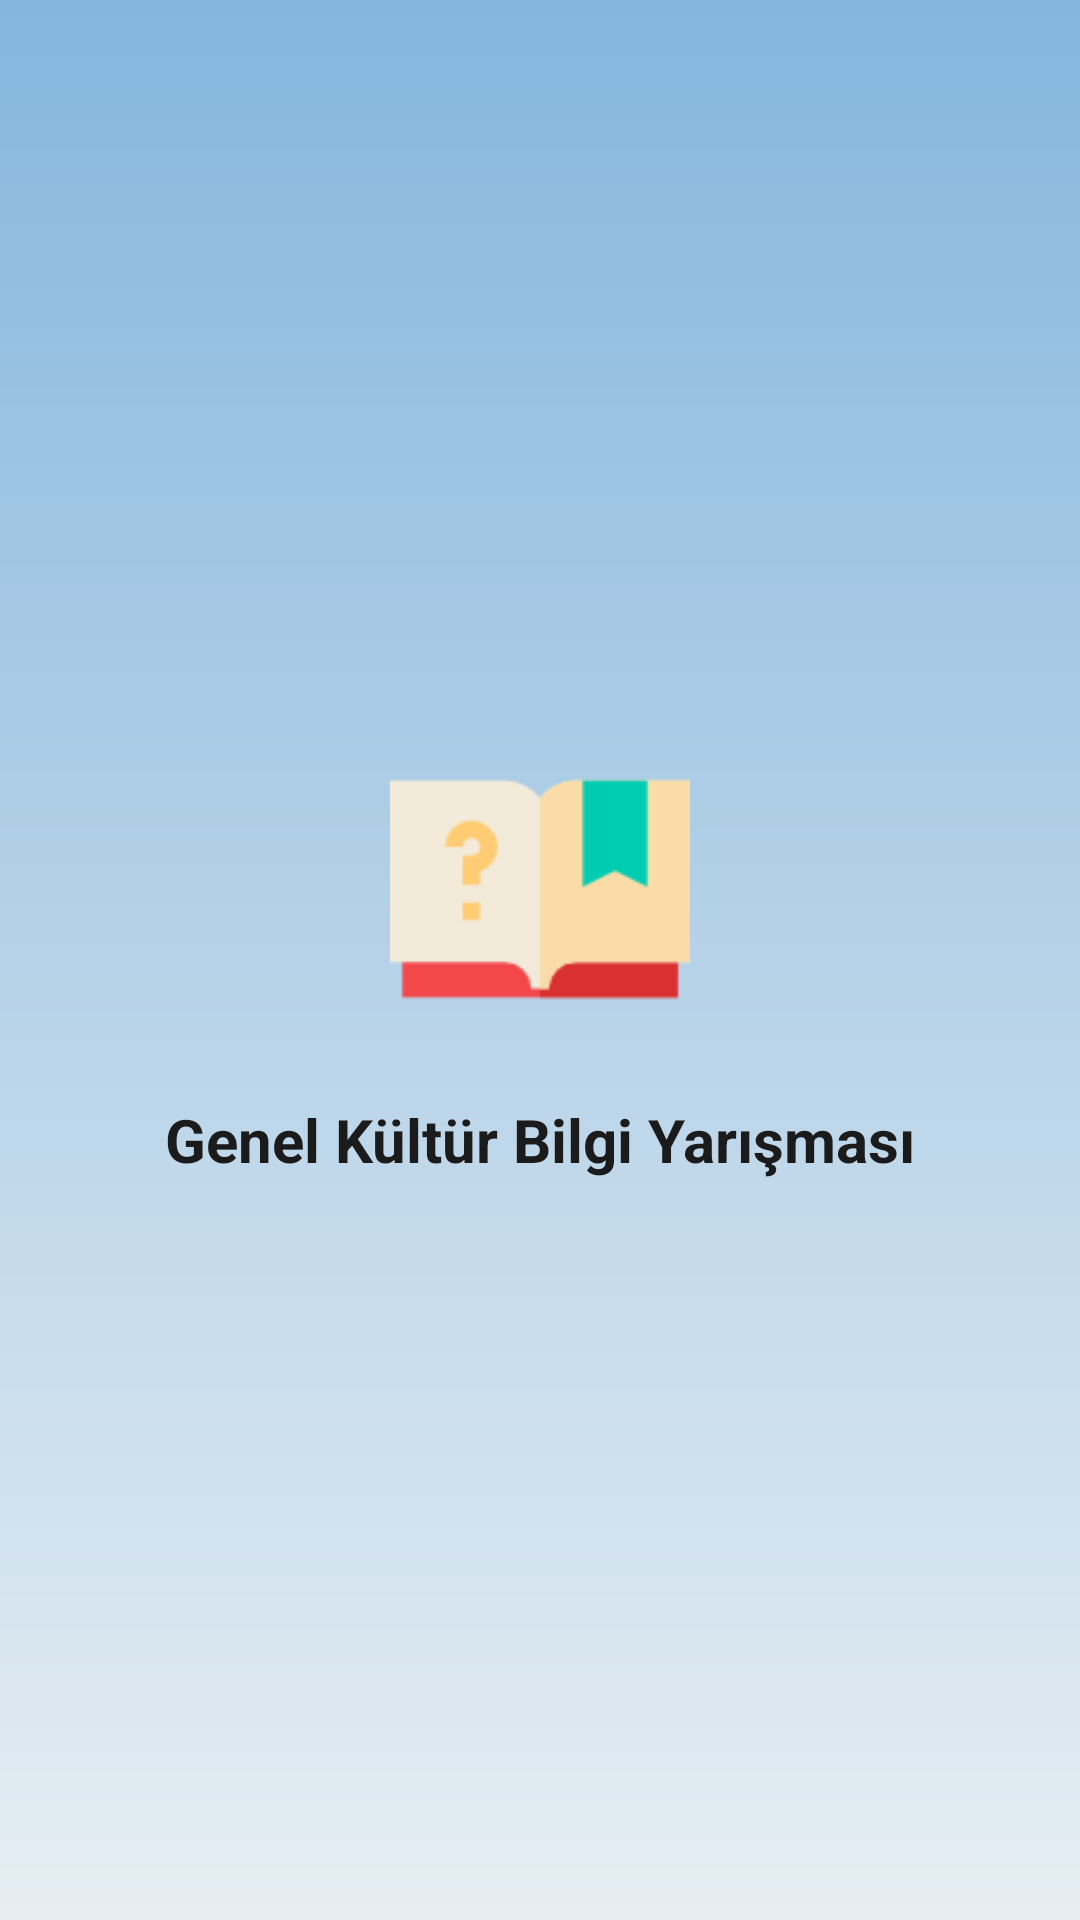

Where icons sit on this 1080x1920 app screen, as (x1, y1, x2, y2):
app: (390, 779, 690, 1000)
